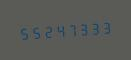five: (17, 23, 28, 42), (29, 22, 40, 41)
four: (53, 20, 64, 40)
seven: (65, 20, 76, 39)
three: (77, 19, 88, 38), (89, 18, 100, 37), (101, 17, 112, 36)
two: (41, 21, 52, 40)
